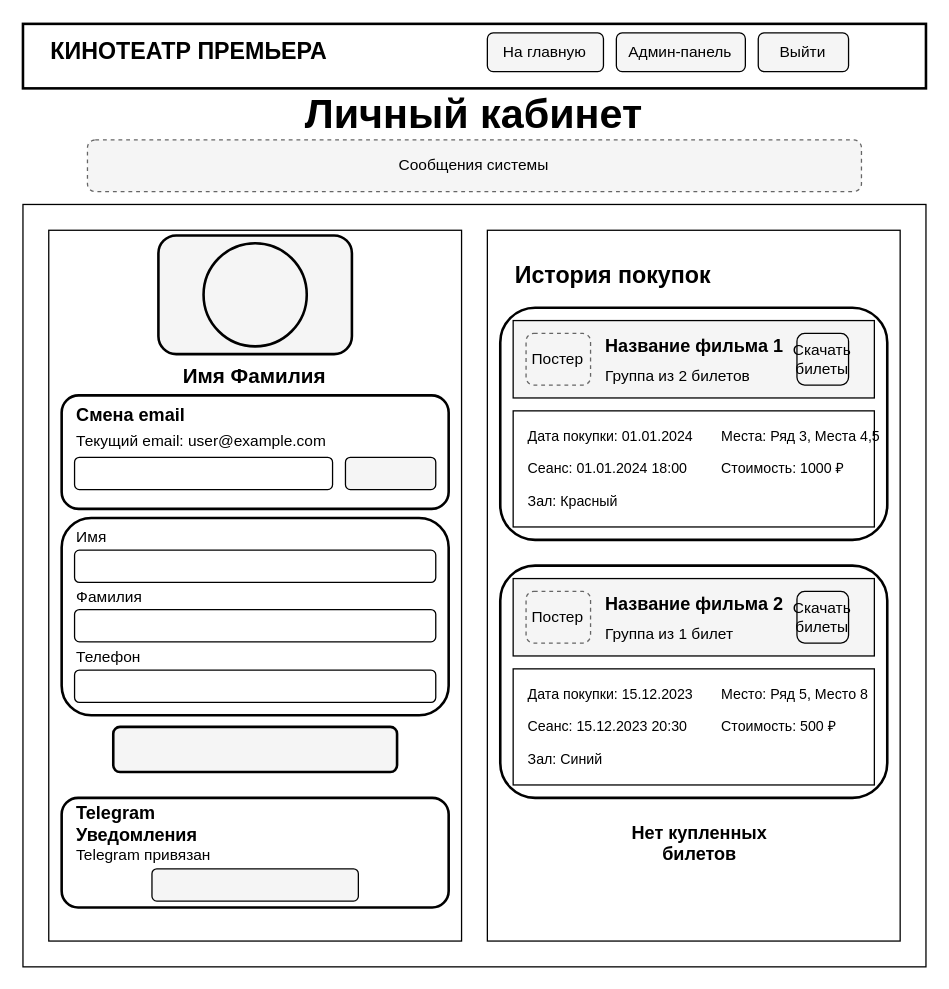
The diagram is 949 pixels wide and 989 high, and some of its shapes have lost their labels. The box of each missing label's shape, as (x1, y1, x2, y2) in pixels:
Аватар: (202, 241, 307, 347)
Запросить смену: (344, 456, 436, 490)
Сохранить изменения: (111, 725, 398, 773)
Управление Telegram: (151, 868, 358, 901)
